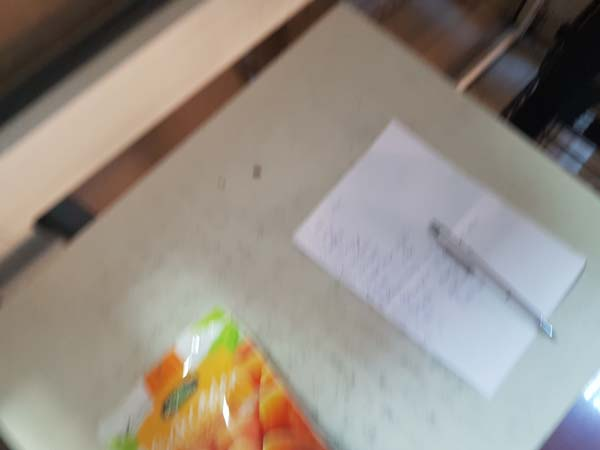bahcedenkurukayisi: (98, 304, 335, 450)
